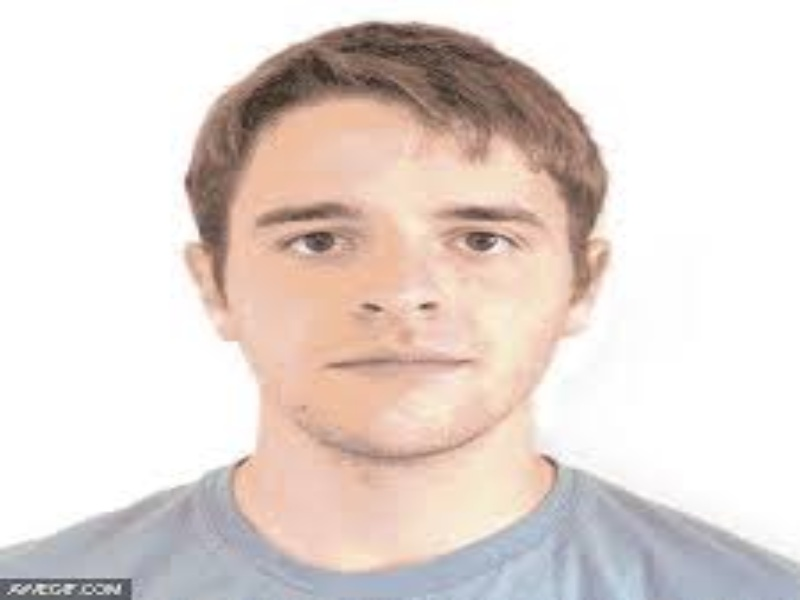face: (244, 126, 555, 417)
